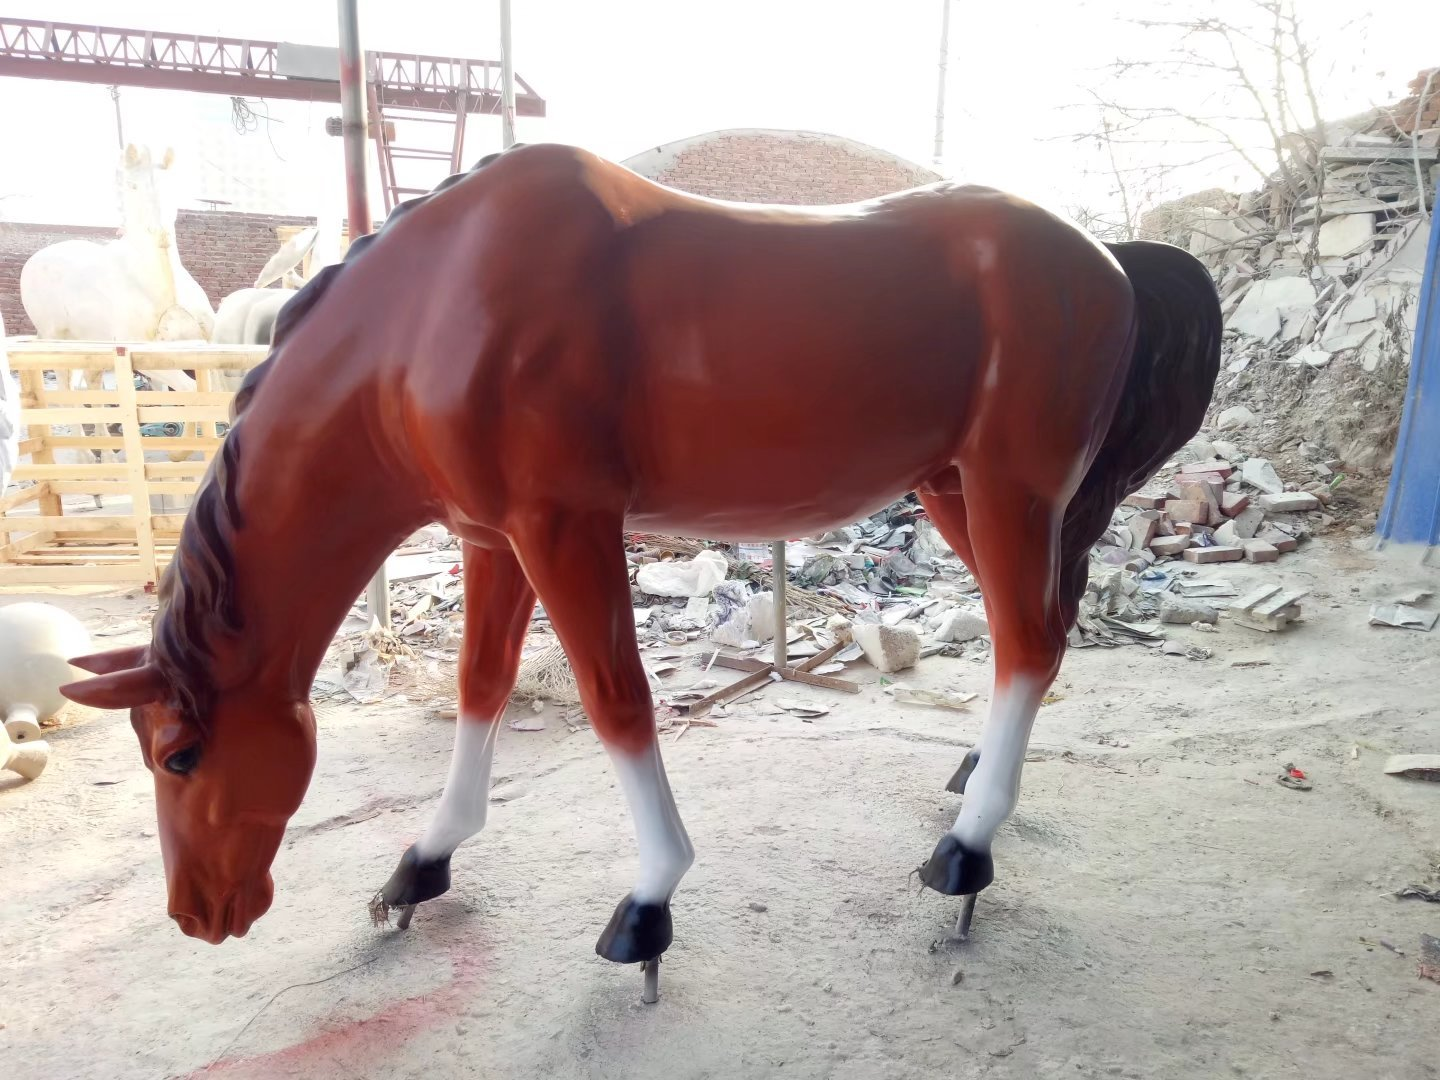background: (58, 130, 1225, 974)
